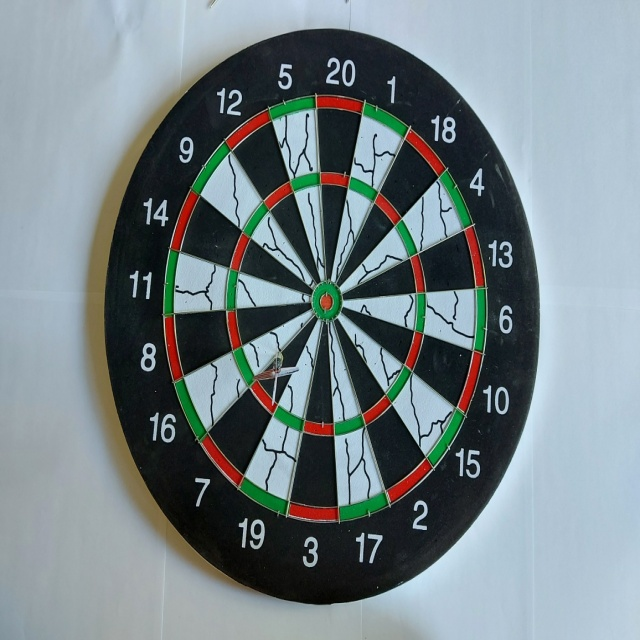Dart: (250, 340, 305, 409)
